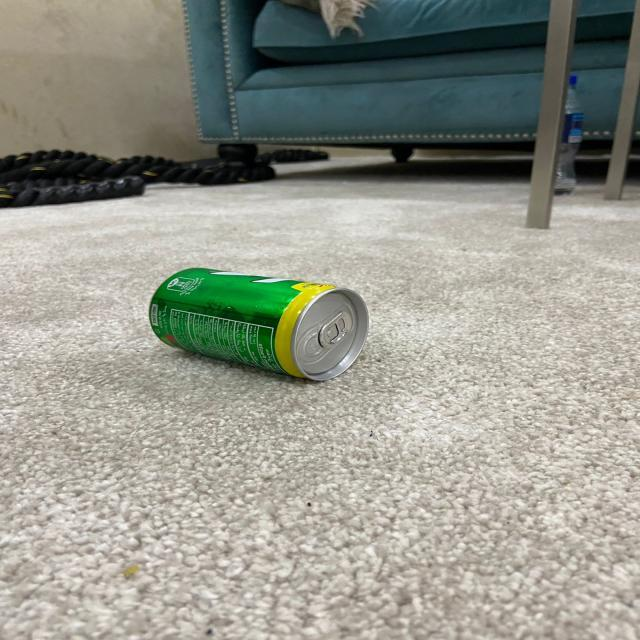can: (144, 267, 370, 383)
